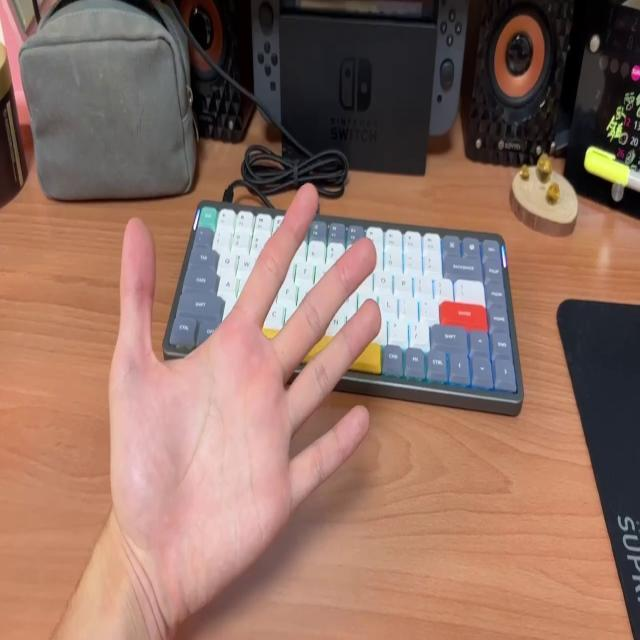keyboard-with-hands: (162, 203, 522, 399)
